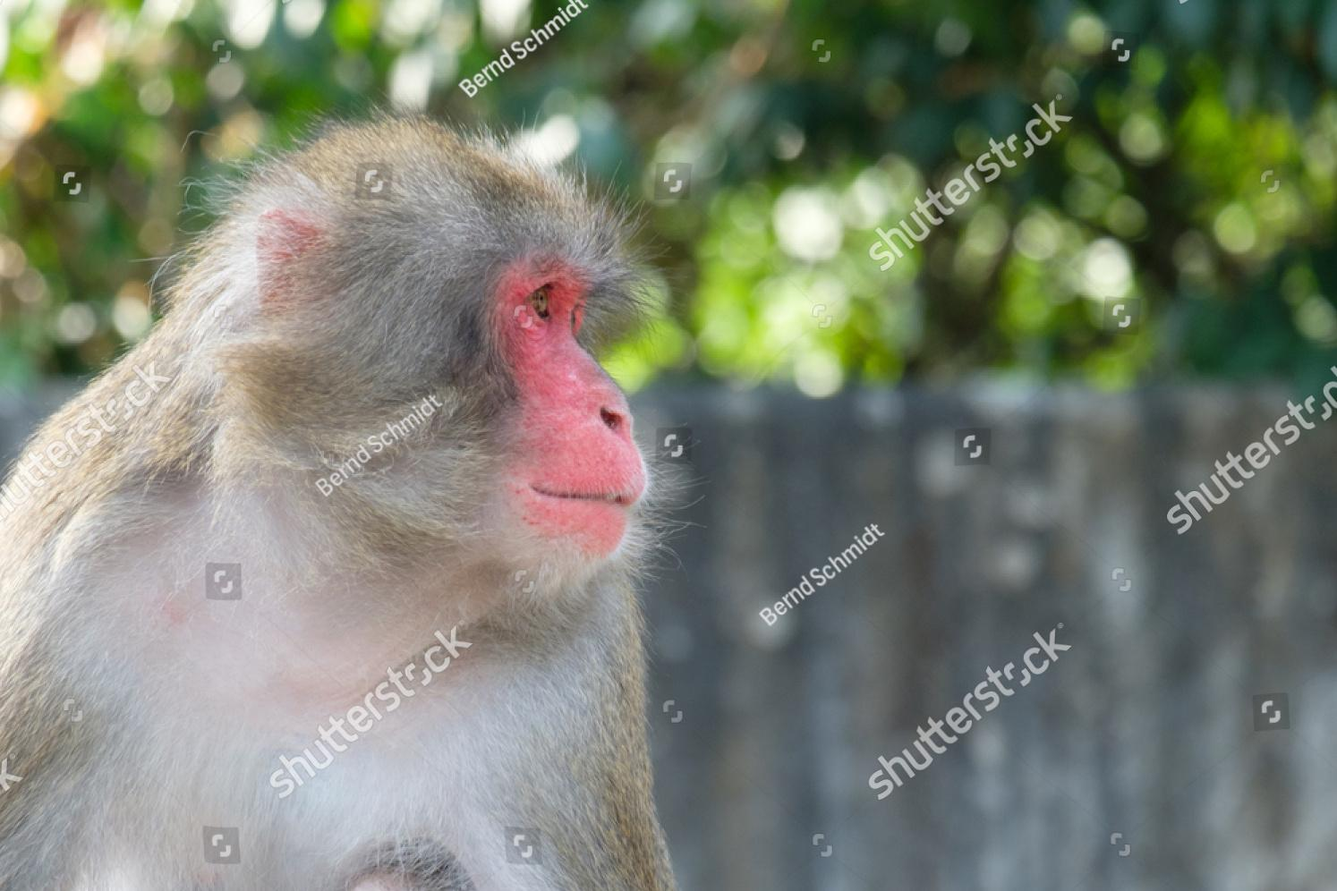monkey: (0, 118, 676, 891)
